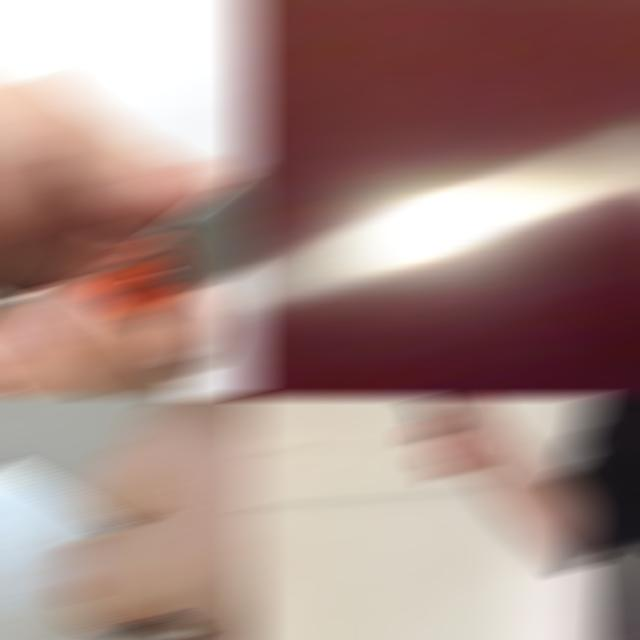Knife: (0, 468, 199, 638), (53, 170, 258, 324)
Knife_Handle: (240, 2, 640, 319), (361, 398, 496, 482)
